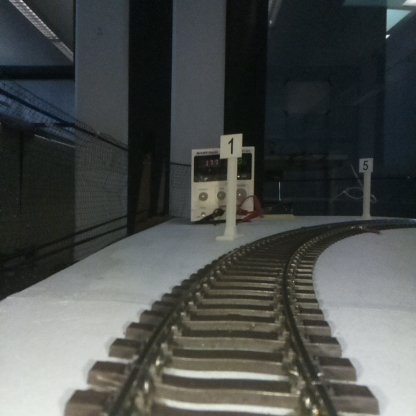white-info-1: (220, 133, 242, 239)
white-info-5: (360, 157, 372, 219)
